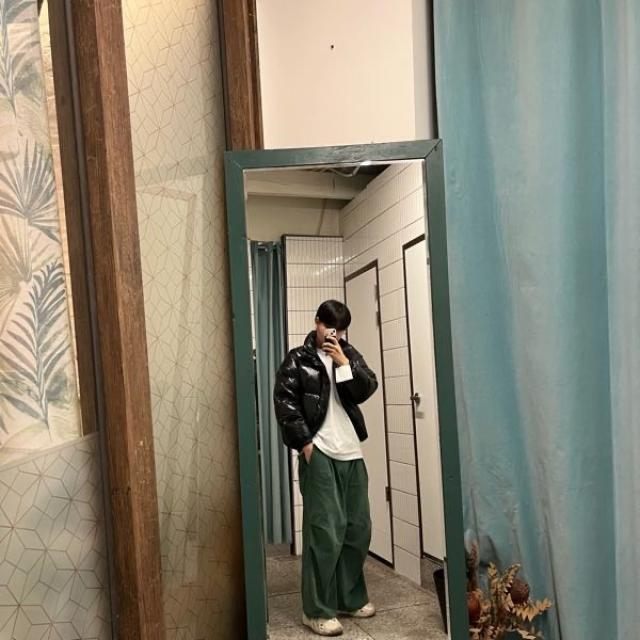cottonpants: (297, 447, 370, 622)
padding: (274, 326, 378, 449)
